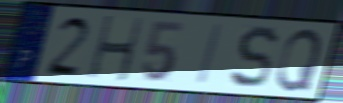2: (41, 14, 94, 79)
5: (140, 18, 187, 84)
H: (86, 14, 146, 84)
I: (194, 22, 227, 88)
Q: (274, 27, 324, 93)
S: (228, 24, 281, 91)
